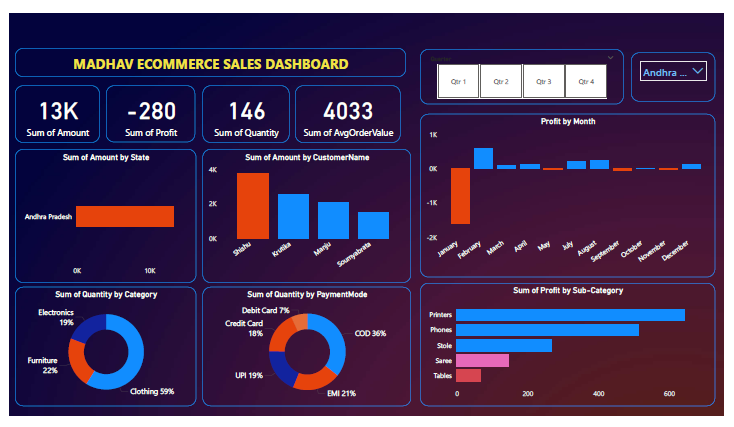

The dashboard page shown, as its layout file describes it:
{"tool":"powerbi","page":{"name":"Page 1","canvas":[1280,720],"ordinal":0},"visuals":[{"type":"textbox","box":[9.6,61.7,701.2,52.1],"z":0},{"type":"columnChart","title":"Profit by Month","fields":{"Category":["Orders.Order Date.Variation.Date Hierarchy.Month"],"Y":["Details.Profit"]},"box":[735.5,179.8,529.7,293.7],"z":1000},{"type":"barChart","fields":{"Category":["Details.Sub-Category"],"Y":["Details.Profit"]},"box":[735.5,483,529.7,220.9],"z":2000},{"type":"donutChart","fields":{"Category":["Details.Category"],"Y":["Details.Quantity"]},"box":[9.6,489.9,325.2,214.1],"z":3000},{"type":"donutChart","fields":{"Y":["Details.Quantity"],"Category":["Details.PaymentMode"]},"box":[345.8,489.9,374.6,214.1],"z":4000},{"type":"card","fields":{"Values":["Details.Amount"]},"box":[9.6,129,152.3,102.9],"z":5000},{"type":"card","fields":{"Values":["Details.Quantity"]},"box":[345.8,129,156.4,102.9],"z":6000},{"type":"card","fields":{"Values":["Details.Profit"]},"box":[172.9,129,160.5,101.5],"z":7000},{"type":"card","fields":{"Values":["Details.AvgOrderValue"]},"box":[511.8,129,189.4,102.9],"z":8000},{"type":"barChart","fields":{"Category":["Orders.State"],"Y":["Details.Amount"]},"box":[9.6,242.9,325.2,240.1],"z":9000},{"type":"columnChart","fields":{"Category":["Orders.CustomerName"],"Y":["Details.Amount"]},"box":[345.8,242.9,374.6,240.1],"z":10000},{"type":"slicer","fields":{"Values":["Orders.State"]},"box":[1114.2,70,150.9,87.8],"z":11000},{"type":"slicer","fields":{"Values":["Orders.Order Date.Variation.Date Hierarchy.Quarter"]},"box":[735.5,64.5,365,98.8],"z":12000}]}

Visuals, with their boxes on the page's 1280x720 design canvas (x1, y1, x2, y2). These are canvas units, not pixel positions in the 734x427 screenshot, which may show the page scaled, cropped or inside an application window:
textbox: [x1=10, y1=62, x2=711, y2=114]
"Profit by Month" columnChart: [x1=736, y1=180, x2=1265, y2=474]
barChart - Details.Sub-Category x Details.Profit: [x1=736, y1=483, x2=1265, y2=704]
donutChart - Details.Category x Details.Quantity: [x1=10, y1=490, x2=335, y2=704]
donutChart - Details.Quantity x Details.PaymentMode: [x1=346, y1=490, x2=720, y2=704]
card - Details.Amount: [x1=10, y1=129, x2=162, y2=232]
card - Details.Quantity: [x1=346, y1=129, x2=502, y2=232]
card - Details.Profit: [x1=173, y1=129, x2=333, y2=230]
card - Details.AvgOrderValue: [x1=512, y1=129, x2=701, y2=232]
barChart - Orders.State x Details.Amount: [x1=10, y1=243, x2=335, y2=483]
columnChart - Orders.CustomerName x Details.Amount: [x1=346, y1=243, x2=720, y2=483]
slicer - Orders.State: [x1=1114, y1=70, x2=1265, y2=158]
slicer - Orders.Order Date.Variation.Date Hierarchy.Quarter: [x1=736, y1=64, x2=1100, y2=163]
